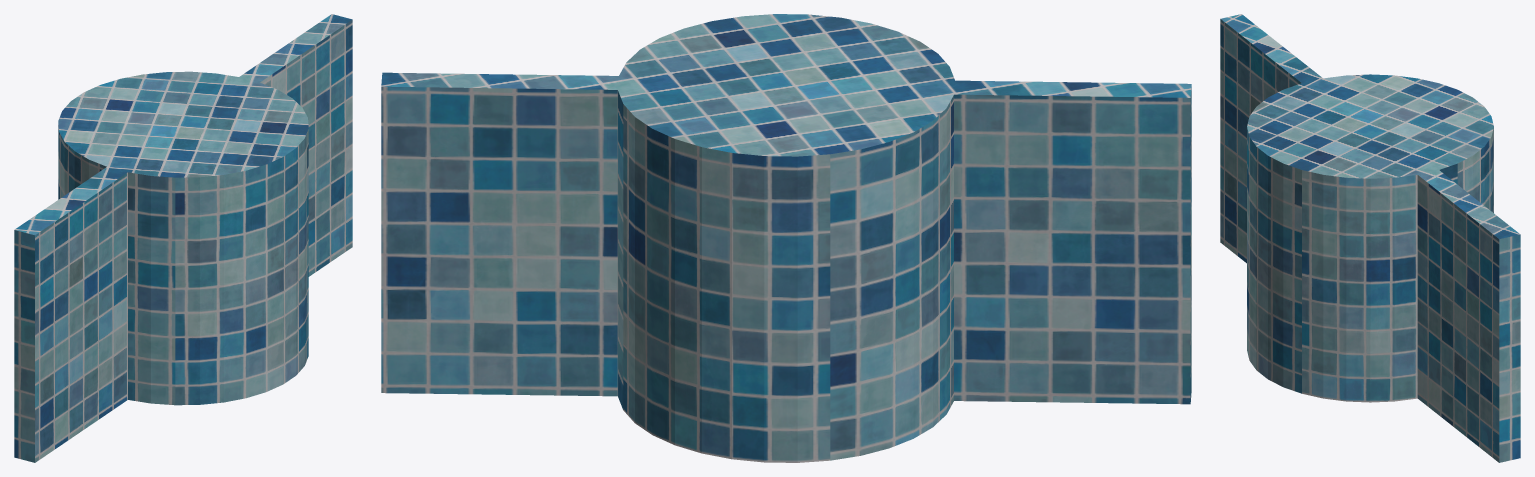
Rendered from propeller.fbx.
The picture shows the model from 3 angles, left to right: view 1: azimuth 30°, elevation 25°; view 2: azimuth 150°, elevation 25°; view 3: azimuth 270°, elevation 25°; orthographic projection. The views are drawn at different scales.
Visible parts, largest first — view 1: propeller; view 2: propeller; view 3: propeller.
Part boxes in pixels (x1,y1,x2,y2): propeller: (14, 14, 352, 462); propeller: (381, 14, 1191, 462); propeller: (1220, 14, 1520, 462).
Bounding box in the file's own units: 216 × 100 × 122.
